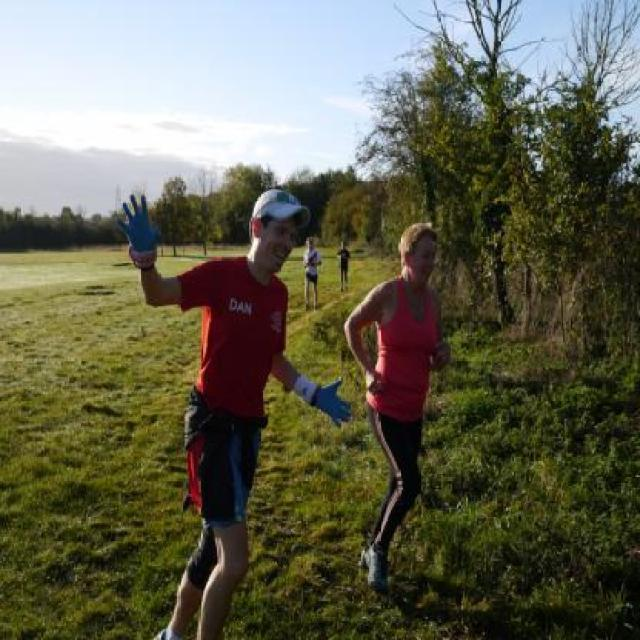sem_oculos: (254, 215, 303, 247), (402, 248, 443, 264)
